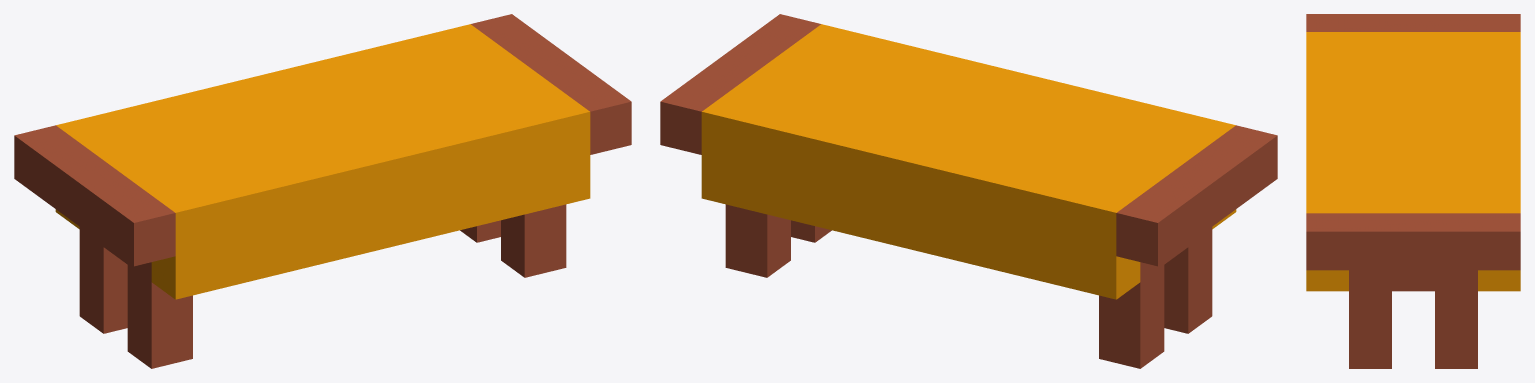
Rendered from large_bench_a_yellow.obj.
3 renders of one model, left to right at view 1: azimuth 30°, elevation 25°; view 2: azimuth 150°, elevation 25°; view 3: azimuth 270°, elevation 25°, orthographic. The views are drawn at different scales.
Bounding box in the file's own units: 1.2 × 0.4 × 0.5.
Materials: 1 (1 with a texture image).
